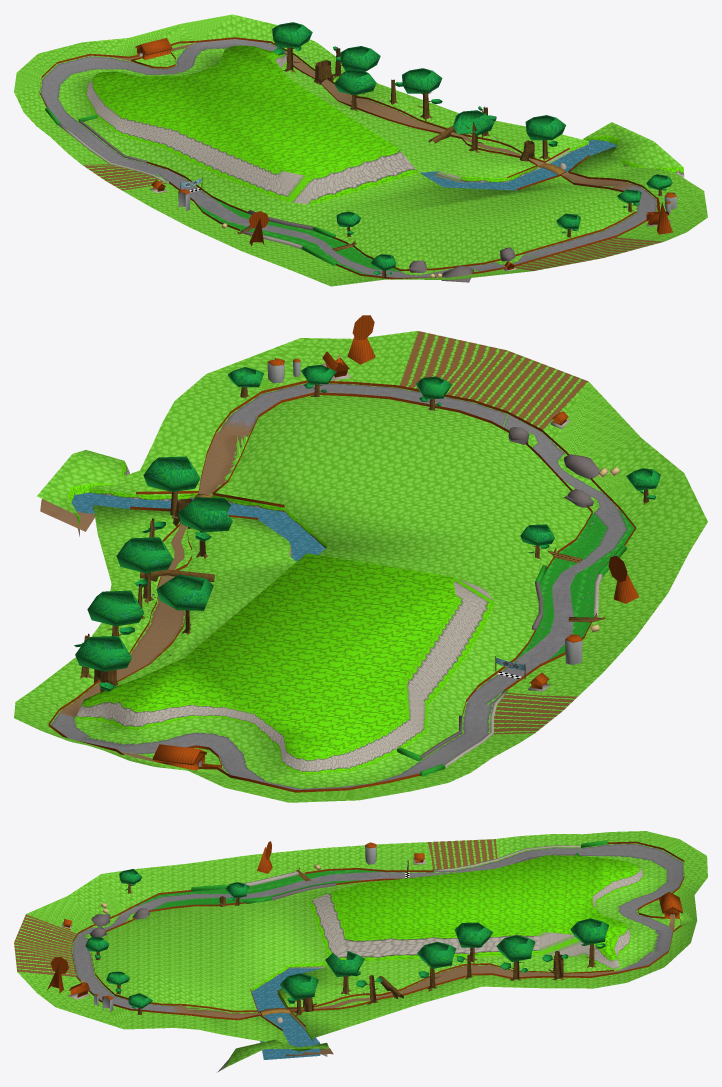
3 views of the same model, one above another, from view 1: azimuth 30°, elevation 25°; view 2: azimuth 150°, elevation 25°; view 3: azimuth 270°, elevation 25° (orthographic). The views are drawn at different scales.
Visible parts, largest first — view 1: MySimsRacing_Greenwoods_Park-SKP--Grass, MySimsRacing_Greenwoods_Park-SKP--GrassHill_M, MySimsRacing_Greenwoods_Park-SKP--GrassRock06_M, MySimsRacing_Greenwoods_Park-SKP--AspGrss_M, MySimsRacing_Greenwoods_Park-SKP--TreeLeafs_M, MySimsRacing_Greenwoods_Park-SKP--Material4, MySimsRacing_Greenwoods_Park-SKP--Field_M, MySimsRacing_Greenwoods_Park-SKP--Tronc_M, MySimsRacing_Greenwoods_Park-SKP--DrtGrss_M, MySimsRacing_Greenwoods_Park-SKP--shrub_M, MySimsRacing_Greenwoods_Park-SKP--WaterA_M, MySimsRacing_Greenwoods_Park-SKP--AspShrub (+1 smaller); view 2: MySimsRacing_Greenwoods_Park-SKP--Grass, MySimsRacing_Greenwoods_Park-SKP--GrassHill_M, MySimsRacing_Greenwoods_Park-SKP--GrassRock06_M, MySimsRacing_Greenwoods_Park-SKP--TreeLeafs_M, MySimsRacing_Greenwoods_Park-SKP--Field_M, MySimsRacing_Greenwoods_Park-SKP--AspGrss_M, MySimsRacing_Greenwoods_Park-SKP--Material4, MySimsRacing_Greenwoods_Park-SKP--DrtGrss_M, MySimsRacing_Greenwoods_Park-SKP--shrub_M, MySimsRacing_Greenwoods_Park-SKP--AspShrub, MySimsRacing_Greenwoods_Park-SKP--WaterA_M, MySimsRacing_Greenwoods_Park-SKP--Tronc_M (+2 smaller); view 3: MySimsRacing_Greenwoods_Park-SKP--Grass, MySimsRacing_Greenwoods_Park-SKP--GrassHill_M, MySimsRacing_Greenwoods_Park-SKP--GrassRock06_M, MySimsRacing_Greenwoods_Park-SKP--TreeLeafs_M, MySimsRacing_Greenwoods_Park-SKP--AspGrss_M, MySimsRacing_Greenwoods_Park-SKP--Material4, MySimsRacing_Greenwoods_Park-SKP--Field_M, MySimsRacing_Greenwoods_Park-SKP--WaterA_M, MySimsRacing_Greenwoods_Park-SKP--DrtGrss_M, MySimsRacing_Greenwoods_Park-SKP--shrub_M, MySimsRacing_Greenwoods_Park-SKP--Tronc_M, MySimsRacing_Greenwoods_Park-SKP--AspShrub (+2 smaller).
Boxes of the visible parts, x1,y1,x2,y2 form: MySimsRacing_Greenwoods_Park-SKP--Grass: (14, 14, 707, 286); MySimsRacing_Greenwoods_Park-SKP--GrassHill_M: (93, 45, 396, 176); MySimsRacing_Greenwoods_Park-SKP--GrassRock06_M: (58, 54, 684, 271); MySimsRacing_Greenwoods_Park-SKP--AspGrss_M: (40, 39, 657, 277); MySimsRacing_Greenwoods_Park-SKP--TreeLeafs_M: (272, 22, 672, 274); MySimsRacing_Greenwoods_Park-SKP--Material4: (39, 37, 676, 279); MySimsRacing_Greenwoods_Park-SKP--Field_M: (82, 164, 663, 271); MySimsRacing_Greenwoods_Park-SKP--Tronc_M: (180, 47, 662, 278); MySimsRacing_Greenwoods_Park-SKP--DrtGrss_M: (111, 43, 626, 187); MySimsRacing_Greenwoods_Park-SKP--shrub_M: (45, 108, 399, 274); MySimsRacing_Greenwoods_Park-SKP--WaterA_M: (419, 139, 622, 190); MySimsRacing_Greenwoods_Park-SKP--AspShrub: (195, 197, 400, 277); MySimsRacing_Greenwoods_Park-SKP--Grass: (14, 331, 707, 802); MySimsRacing_Greenwoods_Park-SKP--GrassHill_M: (83, 553, 456, 757); MySimsRacing_Greenwoods_Park-SKP--GrassRock06_M: (68, 363, 602, 774); MySimsRacing_Greenwoods_Park-SKP--TreeLeafs_M: (74, 365, 660, 691); MySimsRacing_Greenwoods_Park-SKP--Field_M: (399, 331, 588, 734); MySimsRacing_Greenwoods_Park-SKP--AspGrss_M: (50, 382, 619, 789); MySimsRacing_Greenwoods_Park-SKP--Material4: (48, 315, 638, 792); MySimsRacing_Greenwoods_Park-SKP--DrtGrss_M: (40, 433, 248, 771); MySimsRacing_Greenwoods_Park-SKP--shrub_M: (397, 511, 634, 776); MySimsRacing_Greenwoods_Park-SKP--AspShrub: (515, 510, 628, 665); MySimsRacing_Greenwoods_Park-SKP--WaterA_M: (56, 492, 325, 561); MySimsRacing_Greenwoods_Park-SKP--Tronc_M: (80, 384, 649, 692); MySimsRacing_Greenwoods_Park-SKP--Grass: (17, 831, 707, 1066); MySimsRacing_Greenwoods_Park-SKP--GrassHill_M: (334, 855, 638, 958); MySimsRacing_Greenwoods_Park-SKP--GrassRock06_M: (61, 845, 643, 1072); MySimsRacing_Greenwoods_Park-SKP--TreeLeafs_M: (85, 869, 608, 1008); MySimsRacing_Greenwoods_Park-SKP--AspGrss_M: (72, 843, 684, 1011); MySimsRacing_Greenwoods_Park-SKP--Material4: (47, 841, 684, 1030); MySimsRacing_Greenwoods_Park-SKP--Field_M: (14, 839, 497, 977); MySimsRacing_Greenwoods_Park-SKP--WaterA_M: (251, 968, 321, 1059); MySimsRacing_Greenwoods_Park-SKP--DrtGrss_M: (186, 892, 674, 1056); MySimsRacing_Greenwoods_Park-SKP--shrub_M: (137, 840, 607, 909); MySimsRacing_Greenwoods_Park-SKP--Tronc_M: (95, 860, 596, 1015); MySimsRacing_Greenwoods_Park-SKP--AspShrub: (136, 872, 384, 910).
Size of the model in its own units: 70307 by 10637 by 95070.
21 materials, 21 textured.
